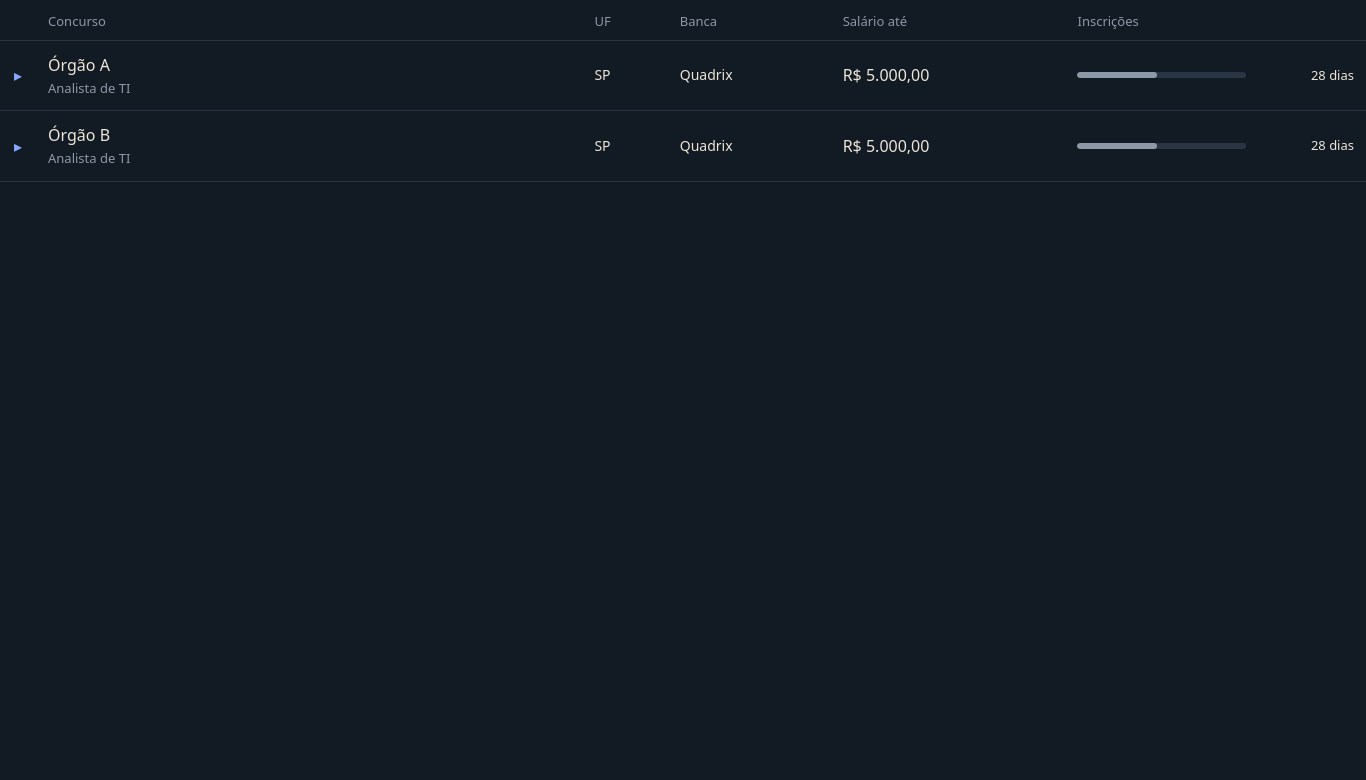
Test: TabelaConcursos › permite vários resumos abertos ao mesmo tempo
Click the button named "Ver resumo de Órgão A". click: {"x": 18, "y": 75}
box: [8,61,28,89]
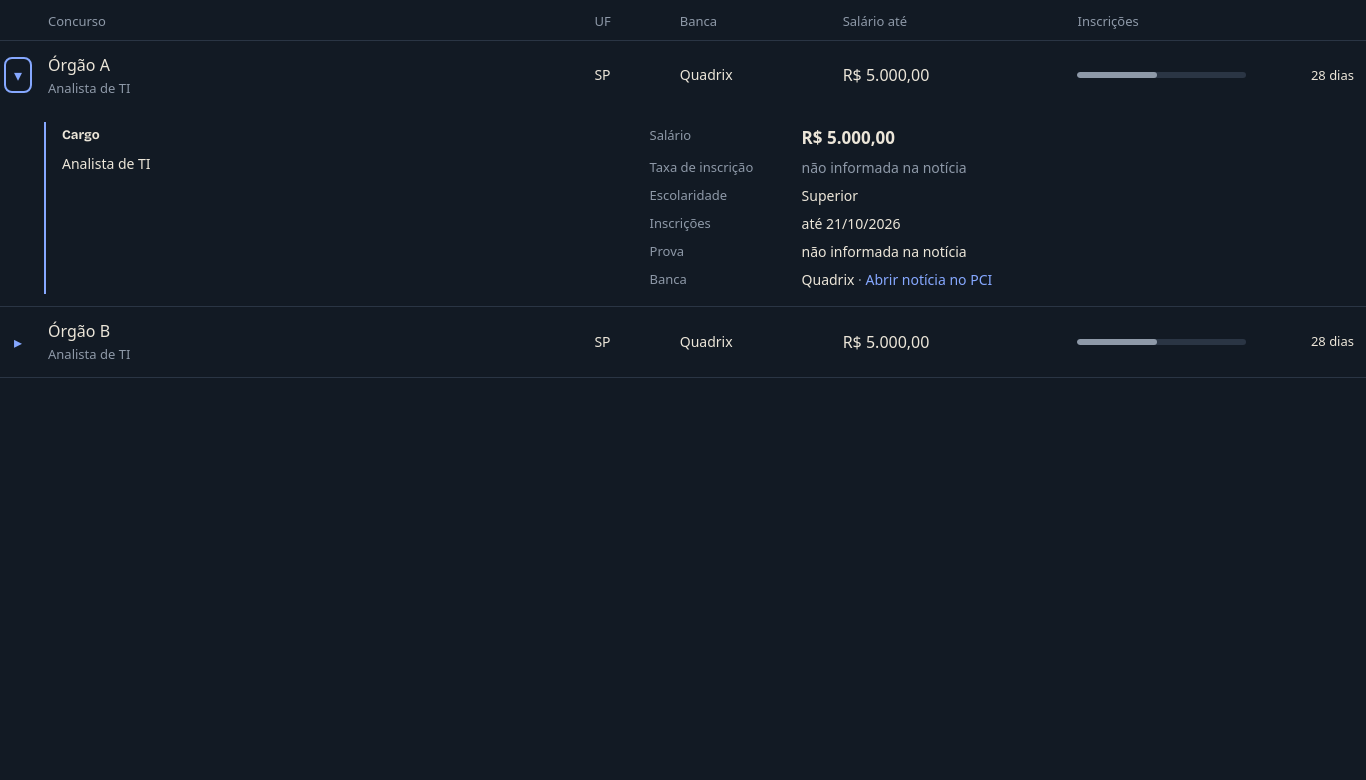
Click the button named "Ver resumo de Órgão B". click: {"x": 18, "y": 342}
box: [8,328,28,356]
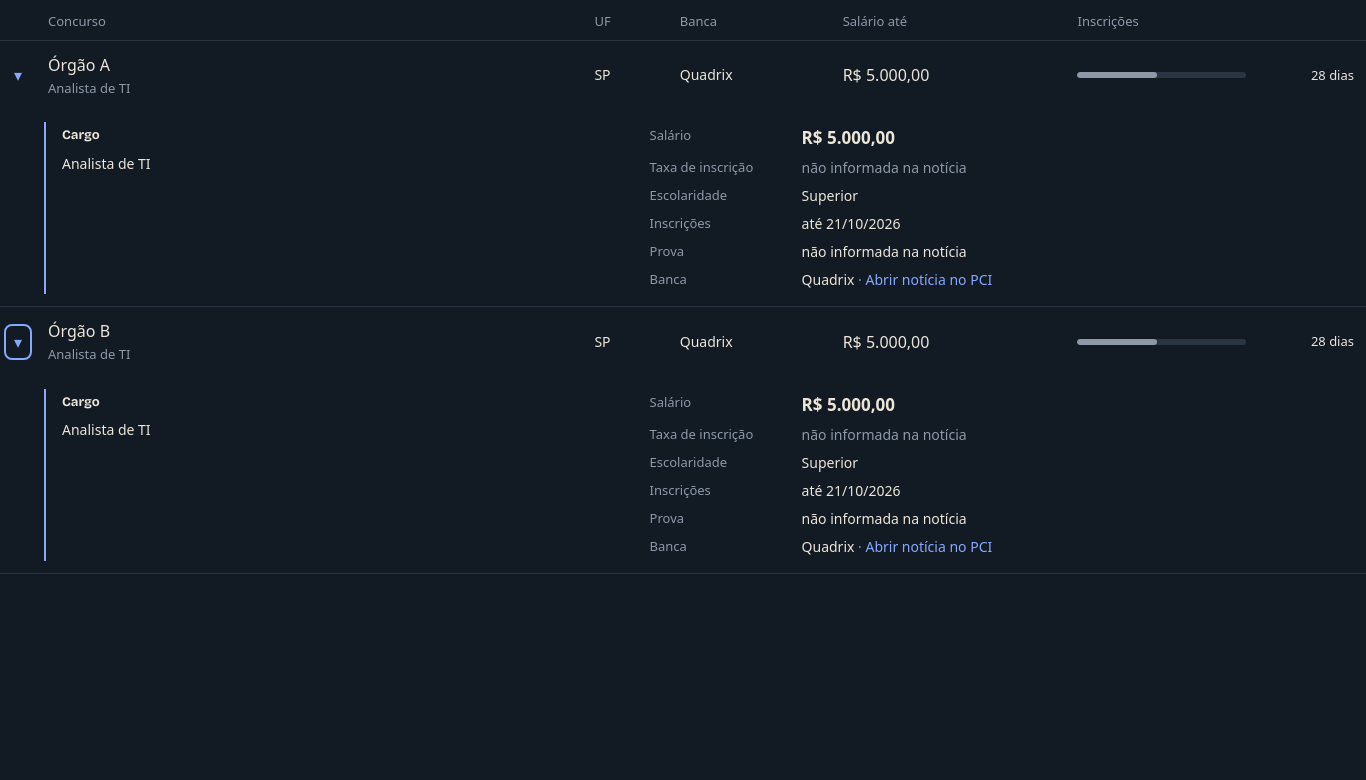
expect the text "Taxa de inscrição" is shown 2 times: met, box [650,158,753,176]; [650,425,753,443]
